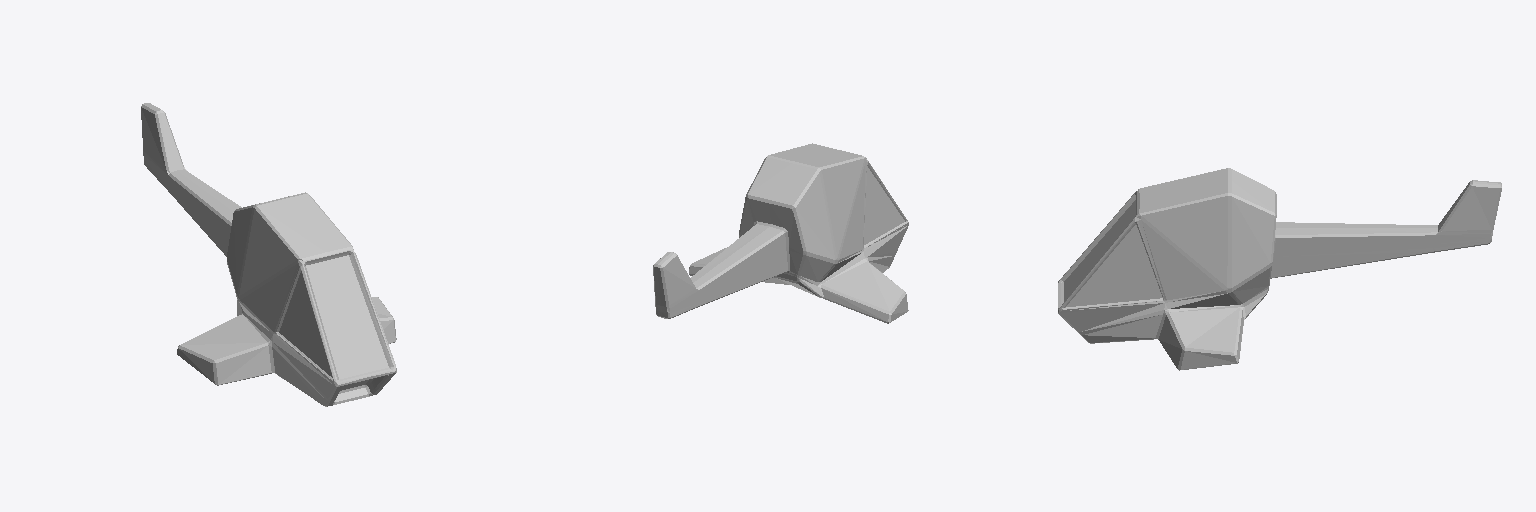
The model's file is heli_base.obj.
The picture shows the model from 3 angles: view 1: azimuth 30°, elevation 25°; view 2: azimuth 150°, elevation 25°; view 3: azimuth 270°, elevation 25°; orthographic projection.
Visible parts, largest first — view 1: Plane.002_Plane.003; view 2: Plane.002_Plane.003; view 3: Plane.002_Plane.003.
Part boxes in pixels (bbox=[...]): Plane.002_Plane.003: bbox=[141, 103, 396, 406]; Plane.002_Plane.003: bbox=[653, 143, 908, 323]; Plane.002_Plane.003: bbox=[1058, 168, 1501, 370].
Size of the model in its own units: 0.5242 by 0.3747 by 0.9998.